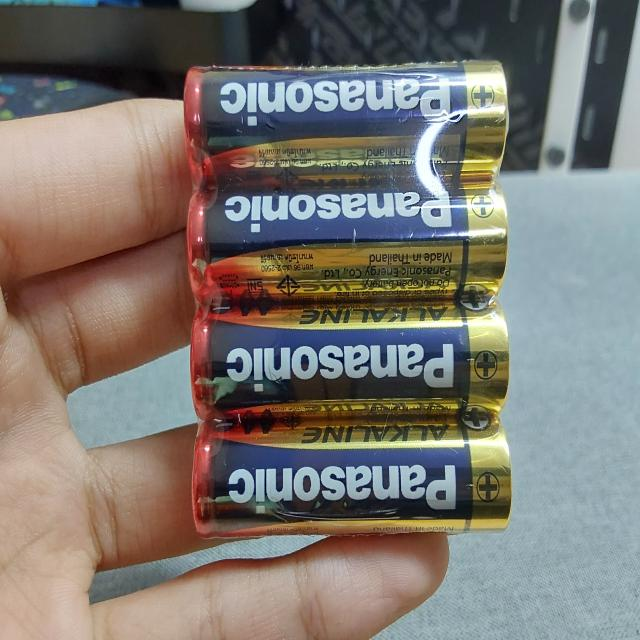battery: (179, 404, 510, 523)
